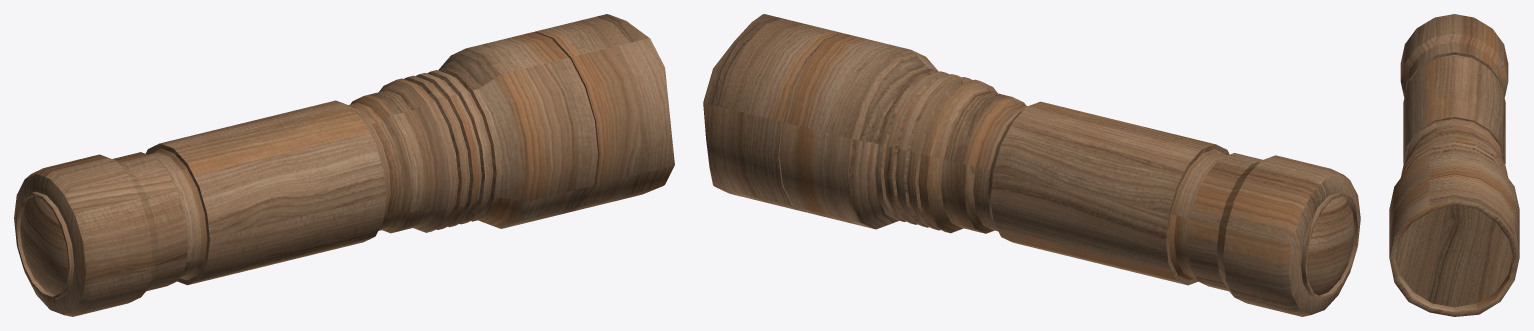
Rendered from flashlight.obj.
3 renders of one model, left to right at view 1: azimuth 30°, elevation 25°; view 2: azimuth 150°, elevation 25°; view 3: azimuth 270°, elevation 25°, orthographic. The views are drawn at different scales.
Visible parts, largest first — view 1: Cylinder; view 2: Cylinder; view 3: Cylinder.
Part boxes in pixels (<box>): Cylinder: <box>14,14,674,316</box>; Cylinder: <box>703,14,1360,316</box>; Cylinder: <box>1389,14,1519,316</box>.
Bounding box in the file's own units: 7.45 × 2 × 2.
